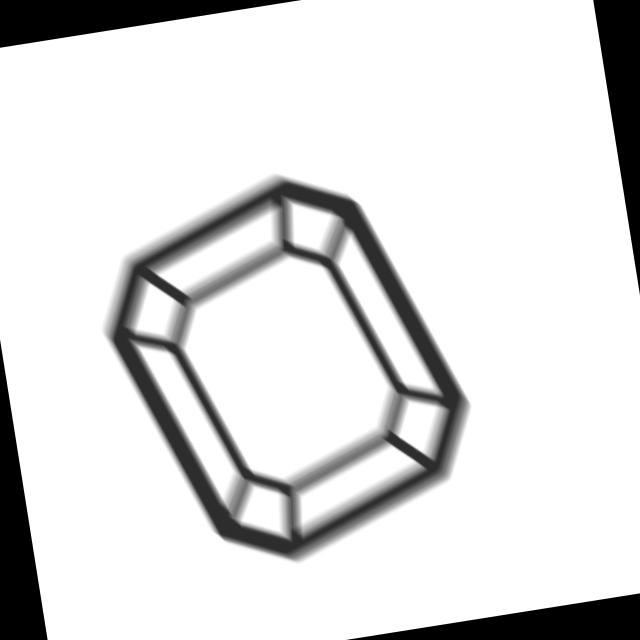emerald: (76, 139, 500, 594)
